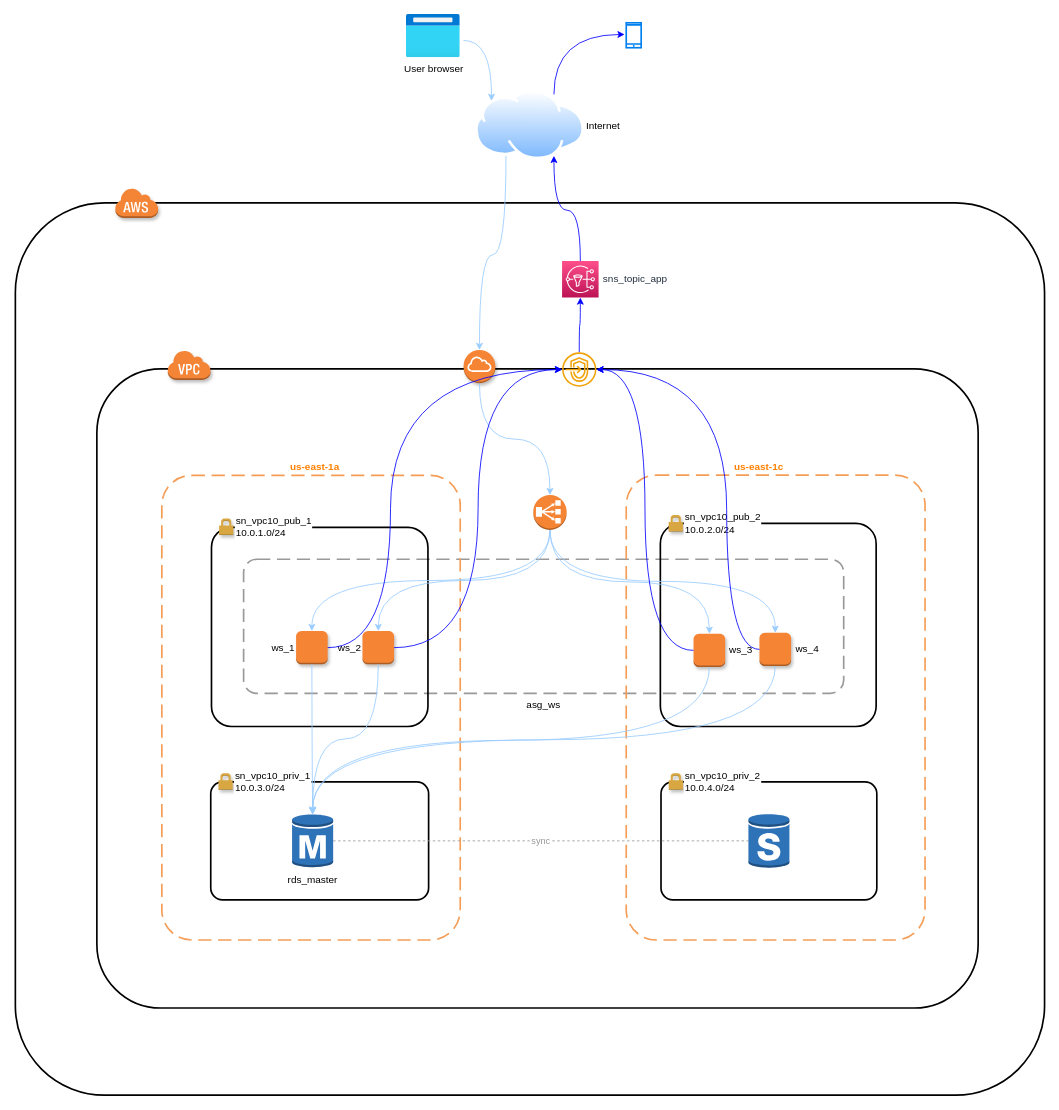
The diagram is 1059 pixels wide and 1110 high, and some of its shapes have lost their labels. The shapes that lost their labels are listed below. From the top down, each one's centre as x and y in pixels, then its label:
At point 633,35: "User mobile".
At point 137,204: "us-east-1".
At point 189,366: "vpc10 10.0.0.0/16".
At point 479,367: "igw_vpc10".
At point 578,369: "vpc_ep_vpc10".
At point 549,512: "elb_ws".
At point 768,840: "rds_slave".
